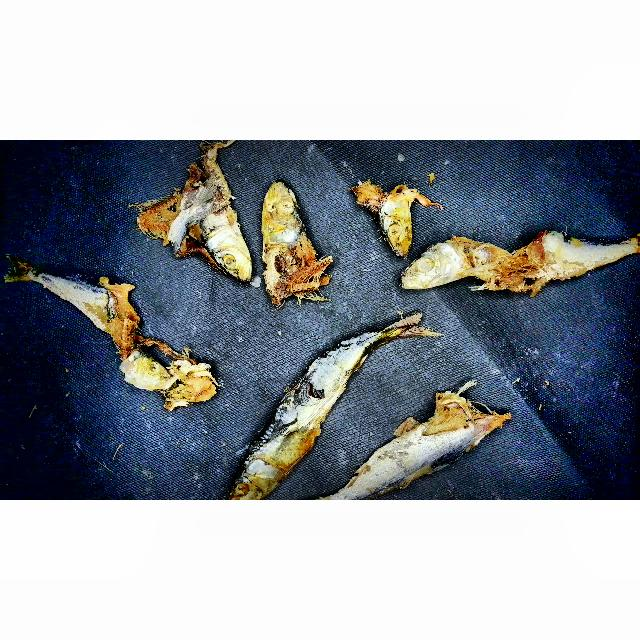Rejected_Body: (348, 373, 511, 500), (265, 328, 367, 448), (476, 228, 608, 299), (56, 268, 142, 353)
Rejected_Head: (127, 148, 259, 292), (249, 177, 334, 307), (105, 330, 227, 419), (353, 173, 432, 261), (395, 230, 484, 293), (219, 437, 289, 500)
Rejected_Tail: (352, 299, 451, 361), (0, 244, 63, 296)
